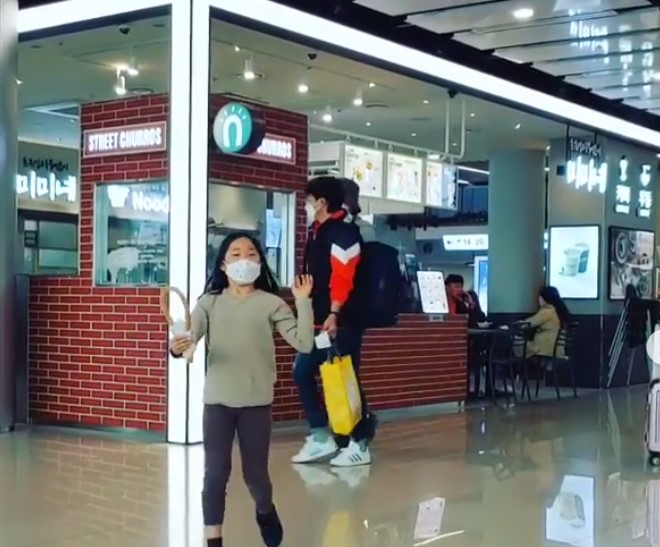face_no_mask: (447, 272, 465, 300)
face_with_mask: (217, 231, 270, 288), (301, 179, 341, 231), (538, 289, 558, 305)
